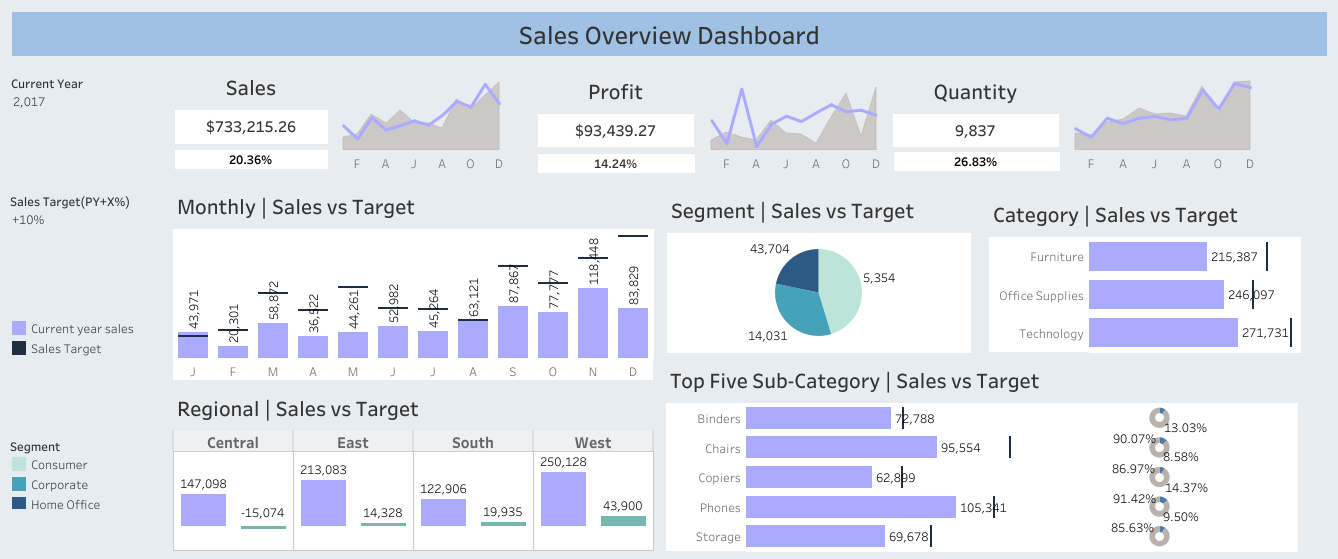

The dashboard page shown, as its layout file describes it:
{"tool":"tableau","page":{"name":"Dashboard","canvas":[1000,1000],"units":"permille","ordinal":0},"visuals":[{"type":"title","box":[6.9,13.5,986.1,87.8]},{"type":"worksheet","title":"Quantity Trend Comparison ","mark":"Line","rows":["Calculation_303711509188132889","Calculation_303711509188005912"],"cols":["Order Date"],"box":[797.1,113.2,142.5,194.3]},{"type":"blank","box":[6.9,113.8,986.1,872.7]},{"type":"worksheet","title":"Sales Trend Comparison","mark":"Line","rows":["Calculation_303711509147414535","Calculation_303711509143150595"],"cols":["Order Date"],"box":[251.3,114.9,126.9,192.6]},{"type":"worksheet","title":"Sales","mark":"Automatic","box":[130.4,119.9,114,135.1]},{"type":"worksheet","title":"Profit Trend Comparison","mark":"Area","rows":["Calculation_303711509186908183","Calculation_303711509185916950"],"cols":["Order Date"],"box":[525.9,123.3,133.8,184.1]},{"type":"worksheet","title":"Profit","mark":"Automatic","box":[401.6,126.7,115.7,133.4]},{"type":"worksheet","title":"Quantity","mark":"Automatic","box":[666.7,126.7,123.5,133.4]},{"type":"parameter","param":"[Parameters].[Parameter 1]","box":[8.3,130.2,115.2,168.4]},{"type":"worksheet","title":"Sales per","mark":"Automatic","box":[130.4,241.6,114,59.1]},{"type":"worksheet","title":"Quantity per","mark":"Automatic","box":[667.5,244.9,123.5,59.1]},{"type":"worksheet","title":"Profit per","mark":"Automatic","box":[401.6,248.3,116.6,59.1]},{"type":"worksheet","title":"CY Sales","mark":"Automatic","rows":["Calculation_303711509143150595","Calculation_303711509144711173"],"cols":["Order Date"],"box":[129.5,332.8,358.4,346.3]},{"type":"worksheet","title":"Segment","mark":"Pie","box":[498.3,339.5,226.2,288.9]},{"type":"parameter","param":"[Parameters].[Parameter 2]","box":[7.8,341.2,112.3,109.8]},{"type":"worksheet","title":"Category","mark":"GanttBar","rows":["Category"],"cols":["Calculation_303711509143150595","Calculation_303711509144711173"],"box":[738.3,346.3,232.3,282.1]},{"type":"legend","title":"CY Sales","param":"[federated.15jy7fx1r1ponr1afql4b0w2sr0a].[:Measure Names]","box":[6.9,567.6,108.8,121.6]},{"type":"worksheet","title":"Top 5 sub-category","mark":"GanttBar","rows":["Sub-Category"],"cols":["Calculation_303711509143150595","Calculation_303711509144711173","Calculation_303711509141995521","Calculation_303711509141995521"],"box":[497.4,643.6,471.5,341.2]},{"type":"worksheet","title":"State wise sales","mark":"Automatic","cols":["Region"],"box":[129.5,692.6,359.2,292.2]},{"type":"legend","title":"Segment","param":"[federated.15jy7fx1r1ponr1afql4b0w2sr0a].[none:Segment:nk]","box":[6.9,777,120.9,131.8]}]}

Visuals, with their boxes on the dashboard's canvas, which has no fixed pixel size, in thousandths of its width and height (x1, y1, x2, y2). These are canvas units, not pixel positions in the 1338x559 screenshot, which may show the page scaled, cropped or inside an application window:
title: {"x1": 7, "y1": 14, "x2": 993, "y2": 101}
"Quantity Trend Comparison " worksheet (Line marks): {"x1": 797, "y1": 113, "x2": 940, "y2": 308}
blank: {"x1": 7, "y1": 114, "x2": 993, "y2": 986}
"Sales Trend Comparison" worksheet (Line marks): {"x1": 251, "y1": 115, "x2": 378, "y2": 308}
"Sales" worksheet: {"x1": 130, "y1": 120, "x2": 244, "y2": 255}
"Profit Trend Comparison" worksheet (Area marks): {"x1": 526, "y1": 123, "x2": 660, "y2": 307}
"Profit" worksheet: {"x1": 402, "y1": 127, "x2": 517, "y2": 260}
"Quantity" worksheet: {"x1": 667, "y1": 127, "x2": 790, "y2": 260}
parameter: {"x1": 8, "y1": 130, "x2": 124, "y2": 299}
"Sales per" worksheet: {"x1": 130, "y1": 242, "x2": 244, "y2": 301}
"Quantity per" worksheet: {"x1": 668, "y1": 245, "x2": 791, "y2": 304}
"Profit per" worksheet: {"x1": 402, "y1": 248, "x2": 518, "y2": 307}
"CY Sales" worksheet: {"x1": 130, "y1": 333, "x2": 488, "y2": 679}
"Segment" worksheet (Pie marks): {"x1": 498, "y1": 340, "x2": 724, "y2": 628}
parameter: {"x1": 8, "y1": 341, "x2": 120, "y2": 451}
"Category" worksheet (GanttBar marks): {"x1": 738, "y1": 346, "x2": 971, "y2": 628}
"CY Sales" legend: {"x1": 7, "y1": 568, "x2": 116, "y2": 689}
"Top 5 sub-category" worksheet (GanttBar marks): {"x1": 497, "y1": 644, "x2": 969, "y2": 985}
"State wise sales" worksheet: {"x1": 130, "y1": 693, "x2": 489, "y2": 985}
"Segment" legend: {"x1": 7, "y1": 777, "x2": 128, "y2": 909}
